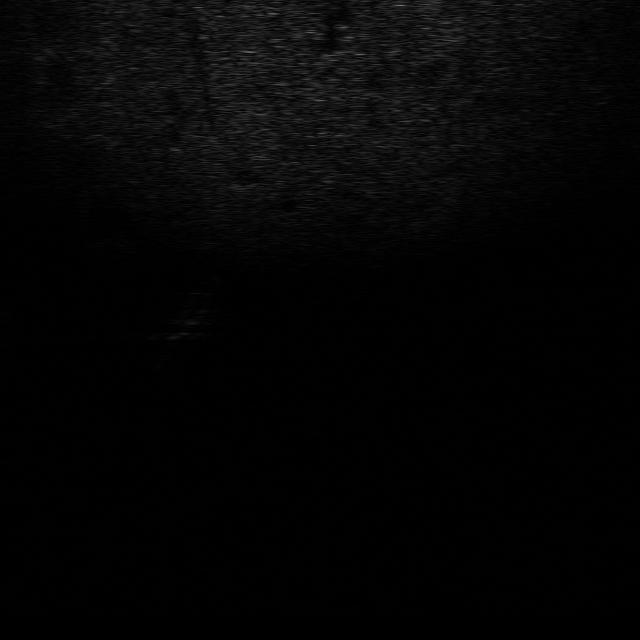human body: (142, 288, 218, 371)
